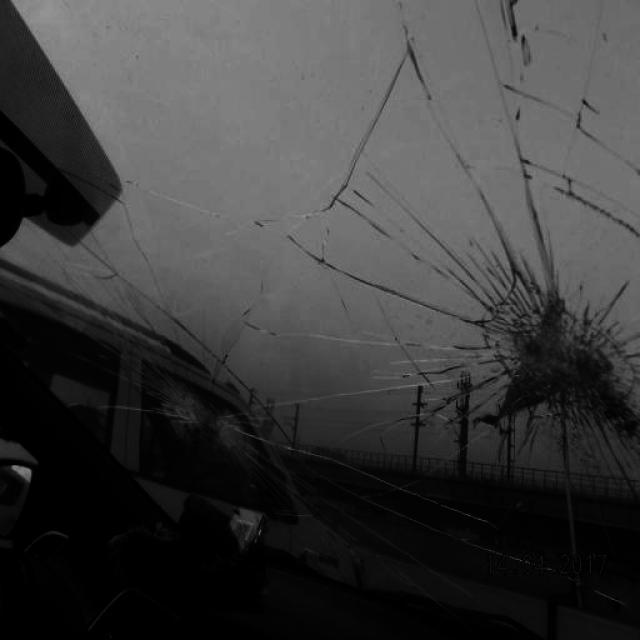car damage: (496, 301, 616, 418), (153, 369, 234, 444)
